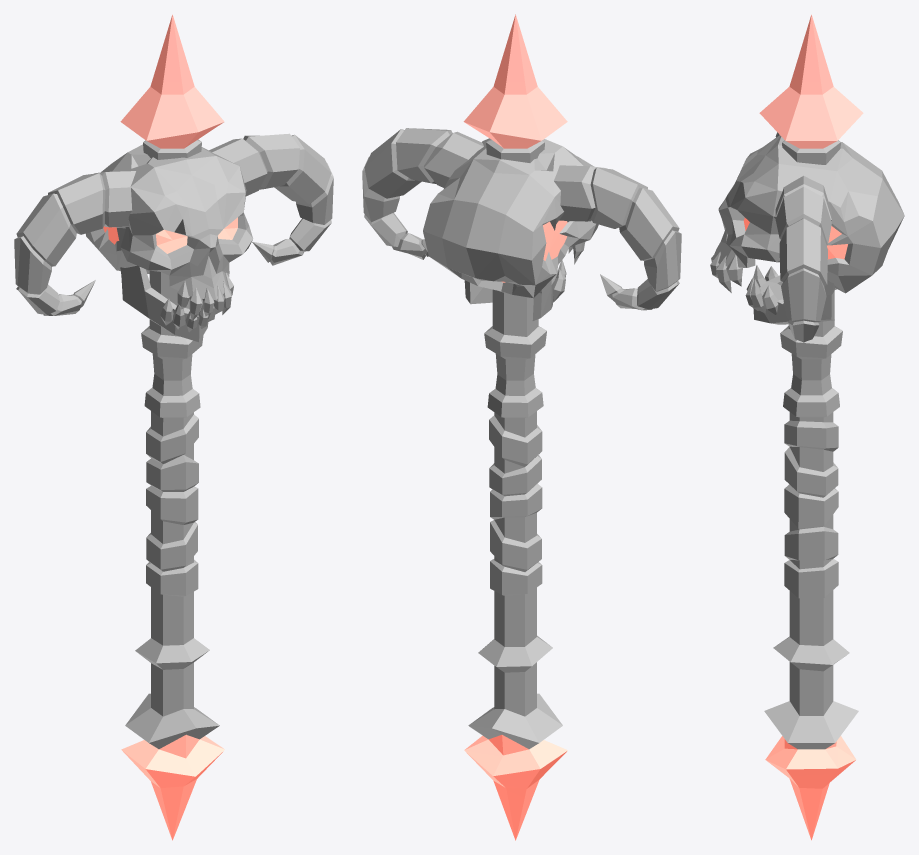
Rendered from SM_Wep_Mace_01.fbx.
3 views of the same model, side by side, from view 1: azimuth 30°, elevation 25°; view 2: azimuth 150°, elevation 25°; view 3: azimuth 270°, elevation 25° (orthographic).
Parts seen in each view (by area): view 1: SM_Wep_Mace_01; view 2: SM_Wep_Mace_01; view 3: SM_Wep_Mace_01.
Boxes of the visible parts, bbox=[...] form: SM_Wep_Mace_01: bbox=[14, 14, 333, 840]; SM_Wep_Mace_01: bbox=[362, 14, 681, 840]; SM_Wep_Mace_01: bbox=[710, 14, 904, 840].
Bounding box in the file's own units: 51.69 × 131 × 27.85.
